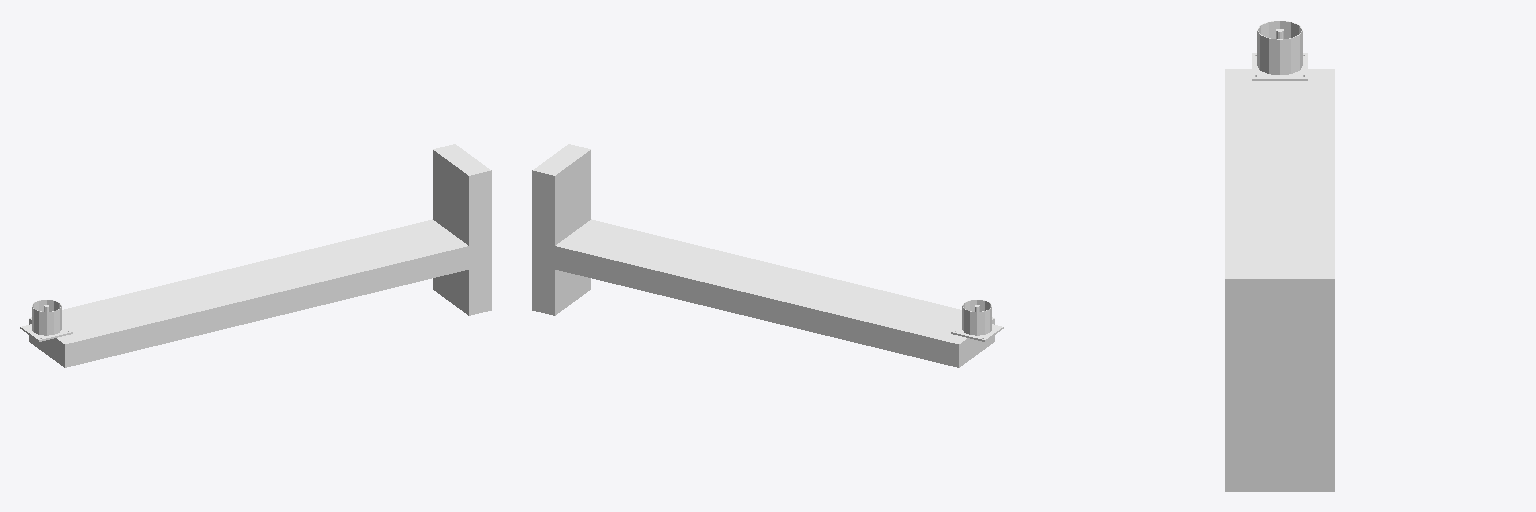
The robot description file, URDF, robot "socket":
<?xml version="1.0" encoding="utf-8"?>
<!-- This URDF was automatically created by SolidWorks to URDF Exporter! Originally created by [author] ([email redacted]) 
     Commit Version: 1.5.1-0-g916b5db  Build Version: 1.5.7152.31018
     For more information, please see http://wiki.ros.org/sw_urdf_exporter -->
<robot
  name="socket">
  <link
    name="socket_des">
    <inertial>
      <origin
        xyz="0.56554 9.76960564791985E-18 -0.018641"
        rpy="0 0 0" />
      <mass
        value="8.4253" />
      <inertia
        ixx="0.03149"
        ixy="2.4468617419202E-18"
        ixz="-0.017948"
        iyy="0.80963"
        iyz="-7.37400739300285E-18"
        izz="0.80556" />
    </inertial>
    <visual>
      <origin
        xyz="0 0 0"
        rpy="1.5707963267949 0 0" />
      <geometry>
        <mesh
          filename="package://socket_des/meshes/socket_des.STL" />
      </geometry>
      <material
        name="">
        <color
          rgba="1 1 1 1" />
        <texture
          filename="package://socket_des/textures/" />
      </material>
    </visual>
    <collision>
      <origin
        xyz="0 0 0"
        rpy="1.5707963267949 0 0" />
      <geometry>
        <mesh
          filename="package://socket_des/meshes/socket_des.STL" />
      </geometry>
    </collision>
  </link>
</robot>

--- What the picture shows (computed from the rendered views, not written in the file) ---
Views: 3 orthographic renders of the robot side by side, from view 1: azimuth 30°, elevation 25°; view 2: azimuth 150°, elevation 25°; view 3: azimuth 270°, elevation 25°.
Robot: socket — 1 links, 0 joints (none); root link socket_des; default pose: all joints at 0.
Links seen in each view (by area): view 1: socket_des; view 2: socket_des; view 3: socket_des.
Link boxes in pixels (x1,y1,x2,y2): socket_des: (20, 144, 491, 367); socket_des: (532, 144, 1003, 367); socket_des: (1225, 21, 1334, 491).
Bounding box of the posed robot: 0.988 × 0.14 × 0.298 m (x, y, z).
Meshes: 1 distinct files referenced, 1 mesh visuals loaded (1 binary STL).